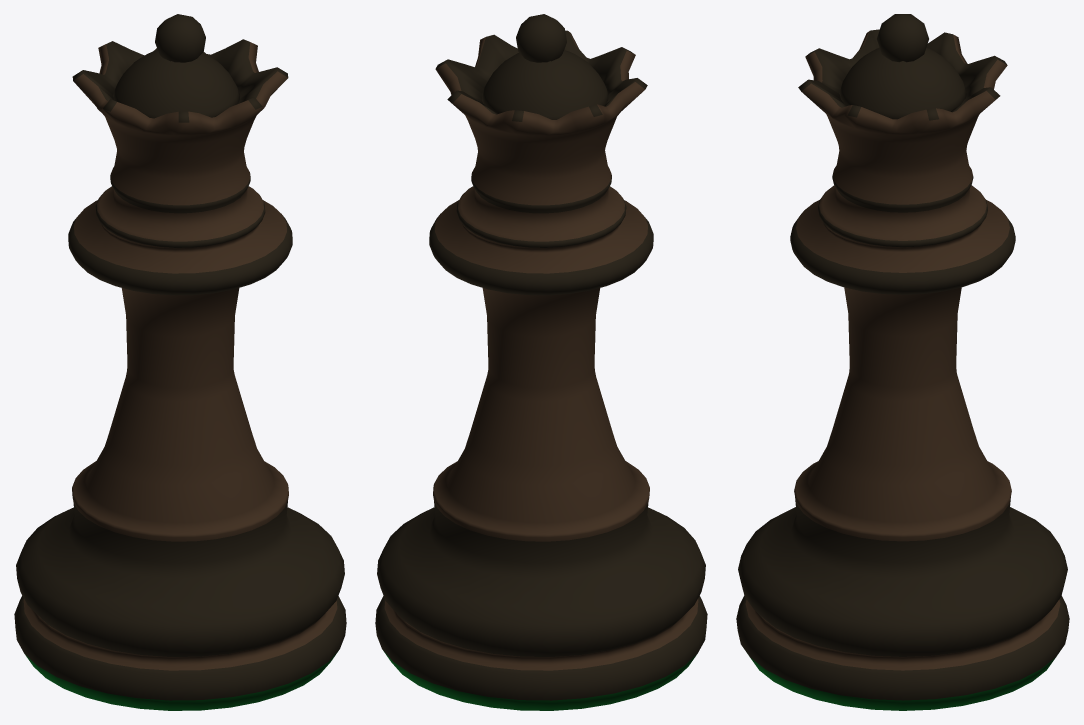
Rendered from QueenBlack.fbx.
The picture shows the model from 3 angles, left to right: view 1: azimuth 30°, elevation 25°; view 2: azimuth 150°, elevation 25°; view 3: azimuth 270°, elevation 25°; orthographic projection.
Visible parts, largest first — view 1: Black Queen; view 2: Black Queen; view 3: Black Queen.
Part boxes in pixels (x1,y1,x2,y2): Black Queen: [14, 14, 346, 710]; Black Queen: [375, 14, 707, 710]; Black Queen: [736, 14, 1069, 710].
Size of the model in its own units: 4.48 by 9.35 by 4.48.
